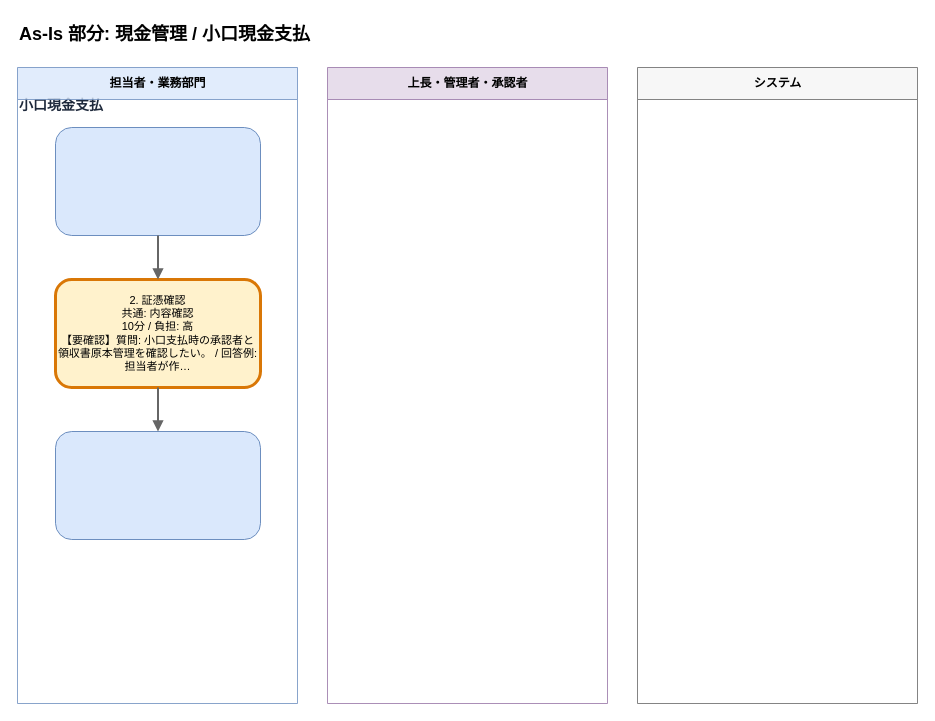
Image size: 935x721. Some labels were removed from this diagram. The centre of each missing label's shape, as x and y in pixels:
1. 小口支払申請受付 共通: 受付・起案 10分 / 負担: 中: the point at 157,181
3. 小口現金出納帳記入 共通: 記録・保管 10分 / 負担: 中: the point at 157,485
